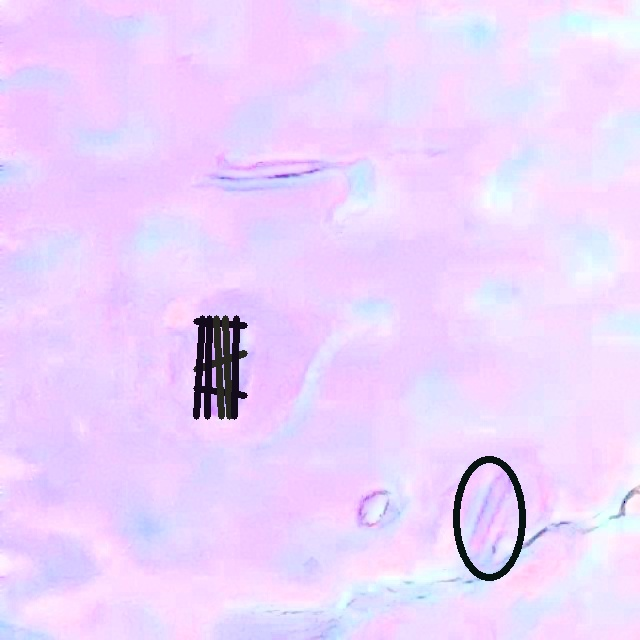open: (452, 456, 525, 580), (193, 315, 247, 419)
